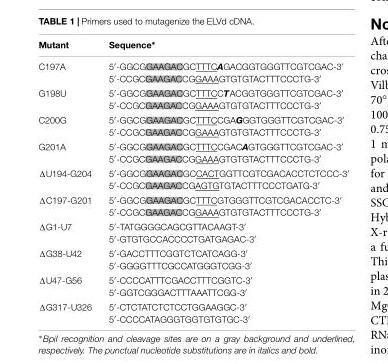table: (37, 37, 348, 324)
table column: (99, 37, 348, 324), (37, 37, 99, 324)
table column header: (37, 37, 348, 55)
table row: (37, 55, 348, 85), (37, 85, 348, 112), (37, 138, 348, 165), (37, 165, 348, 192), (37, 192, 348, 219), (37, 245, 348, 272), (37, 272, 348, 299), (37, 112, 348, 138), (37, 219, 348, 245), (37, 299, 348, 324), (37, 37, 348, 55)
